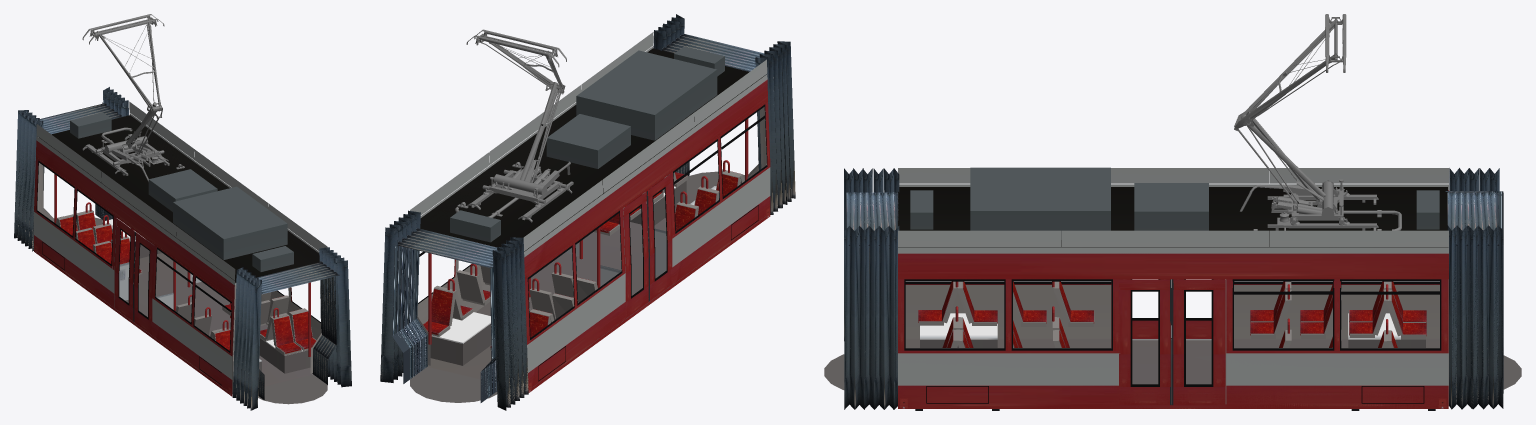
The model's file is mgt_b.obj.
3 renders of one model, left to right at view 1: azimuth 30°, elevation 25°; view 2: azimuth 150°, elevation 25°; view 3: azimuth 270°, elevation 25°, orthographic. The views are drawn at different scales.
Visible parts, largest first — view 1: EXT, INT, GOR, D_RL, D_RR, DL_RR; view 2: EXT, INT, GOR, D_RL, D_RR, DL_RR, DL_RL; view 3: EXT, INT, GOR, D_LR, D_LL, DL_LR, DL_LL.
Part boxes in pixels (x1,y1,x2,y2): EXT: (34, 14, 351, 410); INT: (37, 163, 327, 404); GOR: (14, 87, 339, 400); D_RL: (114, 218, 135, 321); D_RR: (133, 232, 154, 335); DL_RR: (134, 232, 154, 330); EXT: (410, 14, 795, 392); INT: (410, 107, 770, 402); GOR: (380, 34, 764, 410); D_RL: (623, 191, 649, 318); D_RR: (647, 180, 672, 300); DL_RR: (648, 174, 672, 300); DL_RL: (625, 258, 648, 318); EXT: (844, 14, 1448, 409); INT: (824, 279, 1521, 410); GOR: (846, 168, 1503, 409); D_LR: (1172, 279, 1225, 405); D_LL: (1119, 279, 1171, 405); DL_LR: (1172, 279, 1225, 404); DL_LL: (1119, 280, 1171, 404).
Bounding box in the file's own units: 2.44 × 5.79 × 10.4.
25 materials, 25 textured.
